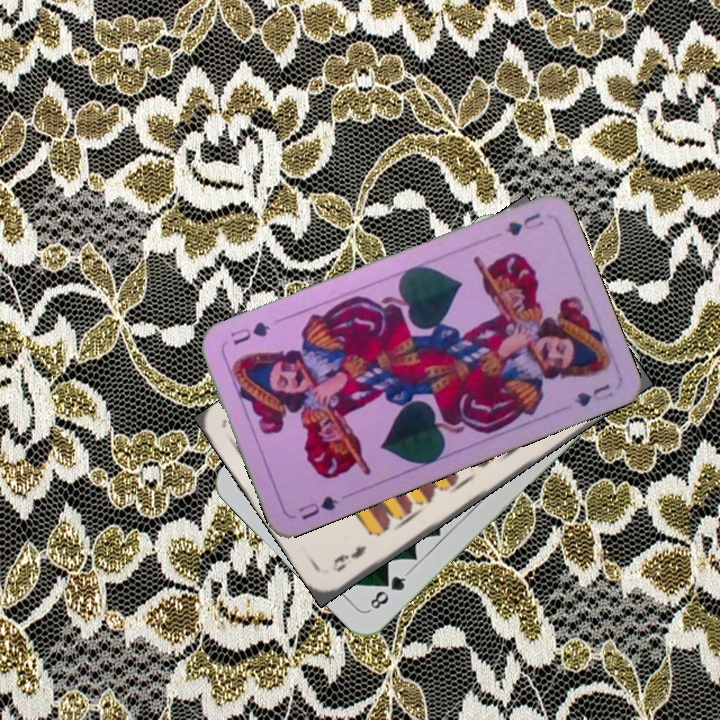E9: (328, 541, 370, 575)
G8: (365, 568, 411, 614)
GU: (294, 492, 341, 523), (501, 209, 547, 239)
